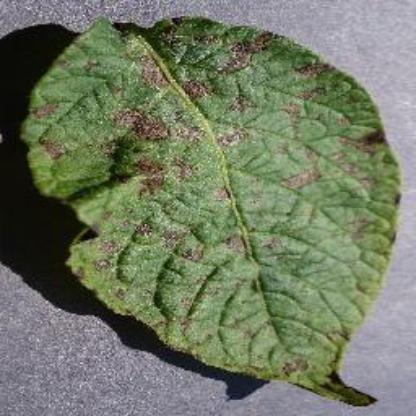Early-Blight: (25, 14, 401, 406)
